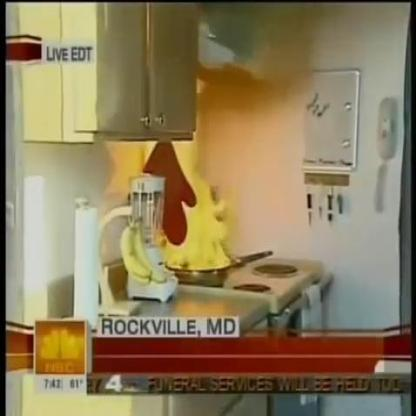fire: (141, 82, 238, 269)
